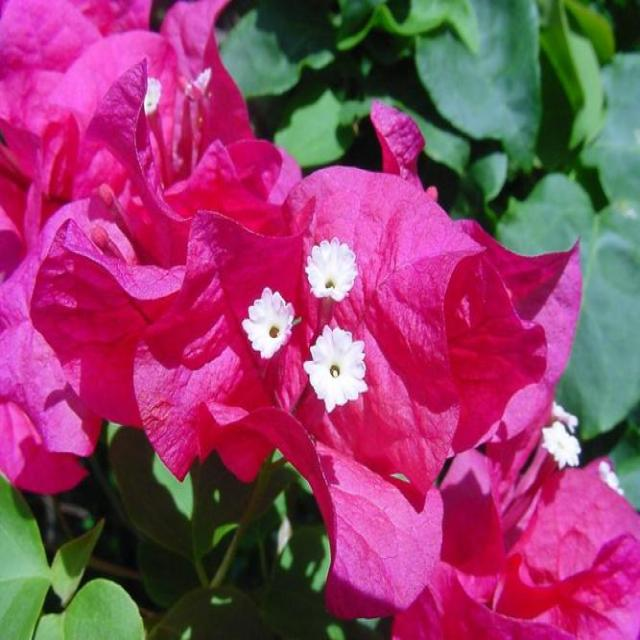bougainvillea: (7, 11, 620, 640)
